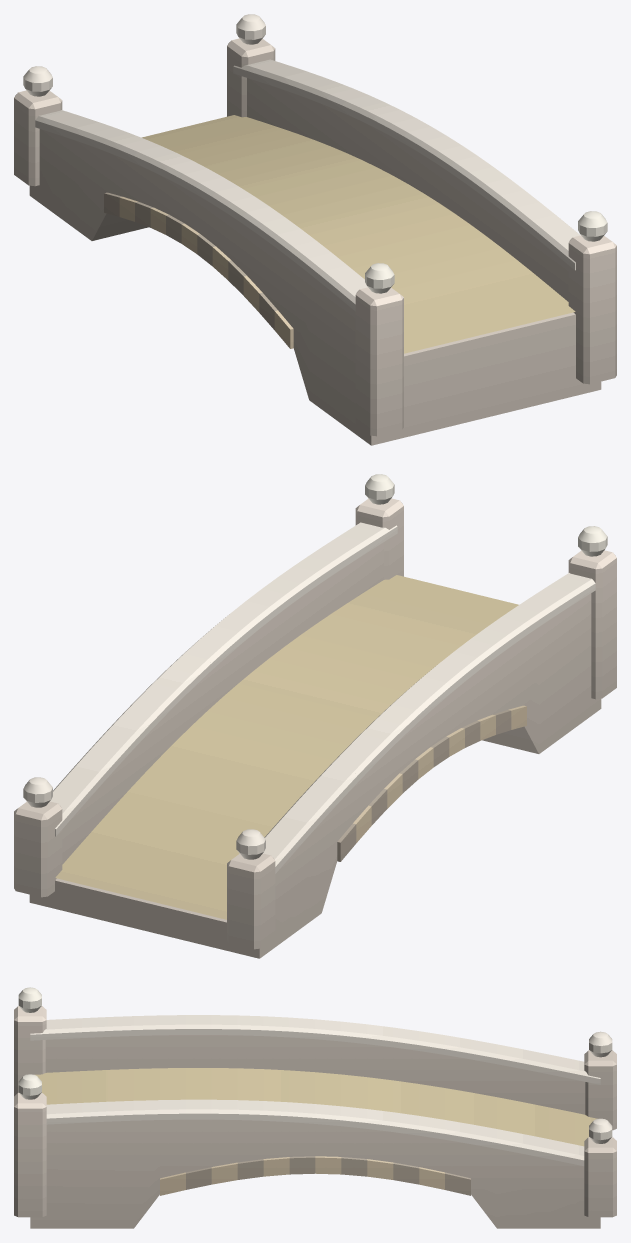
File: island_bridge.glb
3 renders of one model, top to bottom at view 1: azimuth 30°, elevation 25°; view 2: azimuth 150°, elevation 25°; view 3: azimuth 270°, elevation 25°, orthographic. The views are drawn at different scales.
Visible parts, largest first — view 1: island_bridge; view 2: island_bridge; view 3: island_bridge.
Boxes of the visible parts, left/top/right/bottom form: island_bridge: left=14, top=14, right=616, bottom=445; island_bridge: left=14, top=474, right=616, bottom=958; island_bridge: left=14, top=987, right=616, bottom=1228.
Bounding box in the file's own units: 2.92 × 2.03 × 7.4.
Materials: 1 (1 with a texture image).
